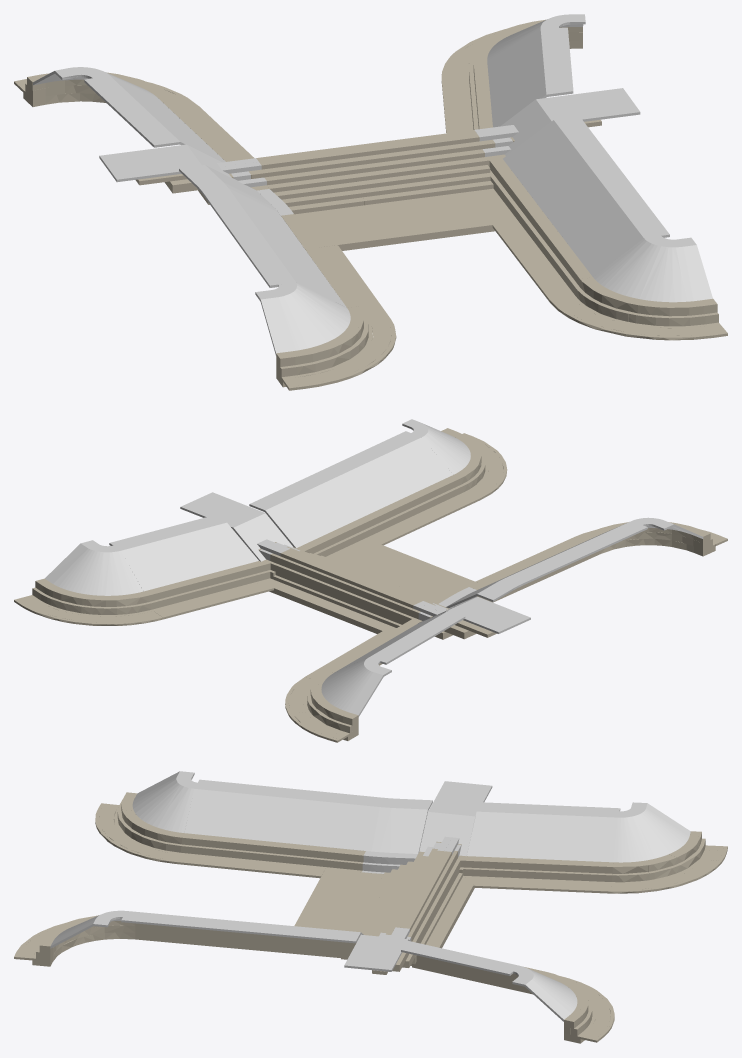
Rendered from 500125-CSSP001-560-XX-MD-HD-003122.glb.
The picture shows the model from 3 angles, top to bottom: view 1: azimuth 30°, elevation 25°; view 2: azimuth 150°, elevation 25°; view 3: azimuth 270°, elevation 25°; orthographic projection. The views are drawn at different scales.
Visible parts, largest first — view 1: 500125-CSSP001-560-XX-MD-HD-003122#GAV003, 500125-CSSP001-560-XX-MD-HD-003122#OTR002, 500125-CSSP001-560-XX-MD-HD-003122#OTR001, 500125-CSSP001-560-XX-MD-HD-003122#GAV002; view 2: 500125-CSSP001-560-XX-MD-HD-003122#OTR002, 500125-CSSP001-560-XX-MD-HD-003122#GAV002, 500125-CSSP001-560-XX-MD-HD-003122#GAV003, 500125-CSSP001-560-XX-MD-HD-003122#OTR001, 500125-CSSP001-560-XX-MD-HD-003122#GAV001; view 3: 500125-CSSP001-560-XX-MD-HD-003122#OTR001, 500125-CSSP001-560-XX-MD-HD-003122#GAV003, 500125-CSSP001-560-XX-MD-HD-003122#GAV002, 500125-CSSP001-560-XX-MD-HD-003122#OTR002, 500125-CSSP001-560-XX-MD-HD-003122#GAV001.
Part boxes in pixels (x1=…): 500125-CSSP001-560-XX-MD-HD-003122#GAV003: x1=276, y1=119, x2=727, y2=390; 500125-CSSP001-560-XX-MD-HD-003122#OTR002: x1=474, y1=14, x2=712, y2=302; 500125-CSSP001-560-XX-MD-HD-003122#OTR001: x1=33, y1=67, x2=350, y2=355; 500125-CSSP001-560-XX-MD-HD-003122#GAV002: x1=14, y1=20, x2=544, y2=206; 500125-CSSP001-560-XX-MD-HD-003122#OTR002: x1=45, y1=419, x2=470, y2=595; 500125-CSSP001-560-XX-MD-HD-003122#GAV002: x1=35, y1=546, x2=496, y2=742; 500125-CSSP001-560-XX-MD-HD-003122#GAV003: x1=234, y1=428, x2=727, y2=602; 500125-CSSP001-560-XX-MD-HD-003122#OTR001: x1=321, y1=517, x2=703, y2=716; 500125-CSSP001-560-XX-MD-HD-003122#GAV001: x1=14, y1=578, x2=60, y2=613; 500125-CSSP001-560-XX-MD-HD-003122#OTR001: x1=132, y1=771, x2=690, y2=873; 500125-CSSP001-560-XX-MD-HD-003122#GAV003: x1=14, y1=792, x2=415, y2=974; 500125-CSSP001-560-XX-MD-HD-003122#GAV002: x1=386, y1=831, x2=727, y2=1027; 500125-CSSP001-560-XX-MD-HD-003122#OTR002: x1=50, y1=910, x2=577, y2=1021; 500125-CSSP001-560-XX-MD-HD-003122#GAV001: x1=564, y1=1009, x2=611, y2=1043.
Bounding box in the file's own units: 75.31 × 7.9 × 95.71.
